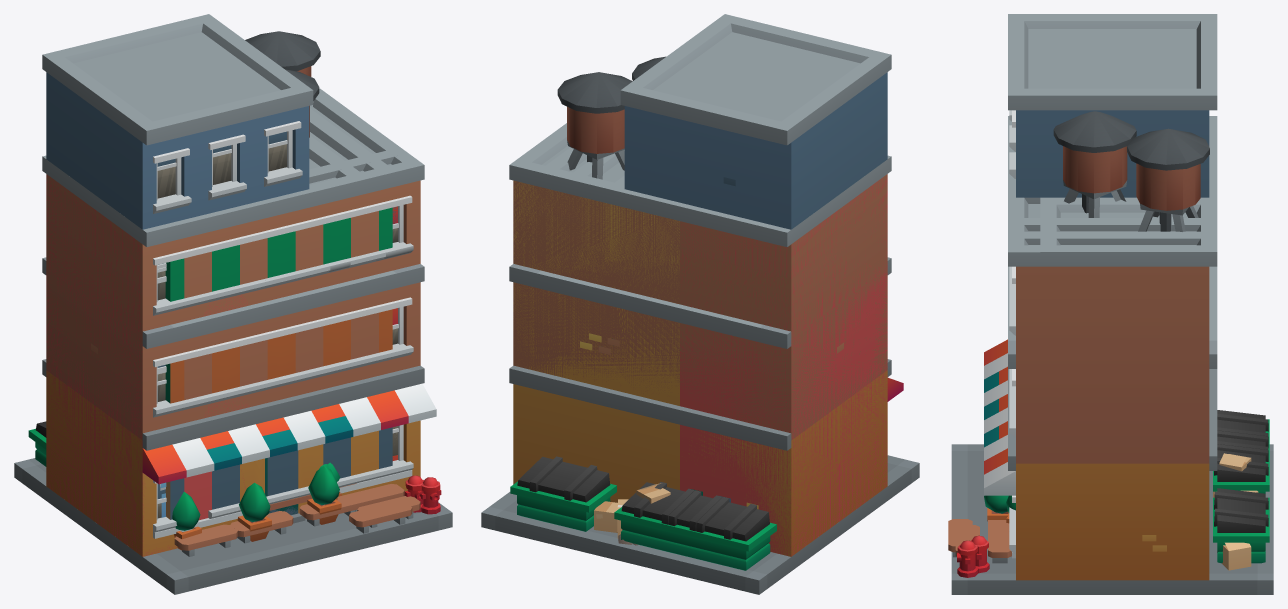
File: city.glb
The picture shows the model from 3 angles, left to right: view 1: azimuth 30°, elevation 25°; view 2: azimuth 150°, elevation 25°; view 3: azimuth 270°, elevation 25°; orthographic projection.
Parts seen in each view (by area): view 1: building_E, building_H, building_F, building_D, building_G, building_B, building_A, building_C; view 2: building_E, building_F, building_H, building_D, building_G, building_C, building_B, building_A; view 3: building_E, building_H, building_D, building_C, building_G, building_B, building_F, building_A.
Part boxes in pixels (<box>): building_E: <box>42,105,436,556</box>; building_H: <box>28,14,420,533</box>; building_F: <box>46,175,424,556</box>; building_D: <box>15,69,452,594</box>; building_G: <box>42,88,441,532</box>; building_B: <box>170,270,396,543</box>; building_A: <box>203,277,423,513</box>; building_C: <box>14,135,360,594</box>; building_E: <box>509,146,903,556</box>; building_F: <box>511,177,889,556</box>; building_H: <box>557,14,891,570</box>; building_D: <box>482,56,918,580</box>; building_G: <box>509,123,891,563</box>; building_C: <box>481,150,919,594</box>; building_B: <box>537,270,763,547</box>; building_A: <box>565,277,734,495</box>; building_E: <box>972,197,1269,580</box>; building_H: <box>955,14,1269,570</box>; building_D: <box>948,111,1273,580</box>; building_C: <box>951,204,1273,594</box>; building_G: <box>957,116,1269,577</box>; building_B: <box>988,266,1269,531</box>; building_F: <box>984,340,1216,563</box>; building_A: <box>971,371,1015,573</box>.
Size of the model in its own units: 2.01 by 3.11 by 2.02.
1 material, 1 textured.
